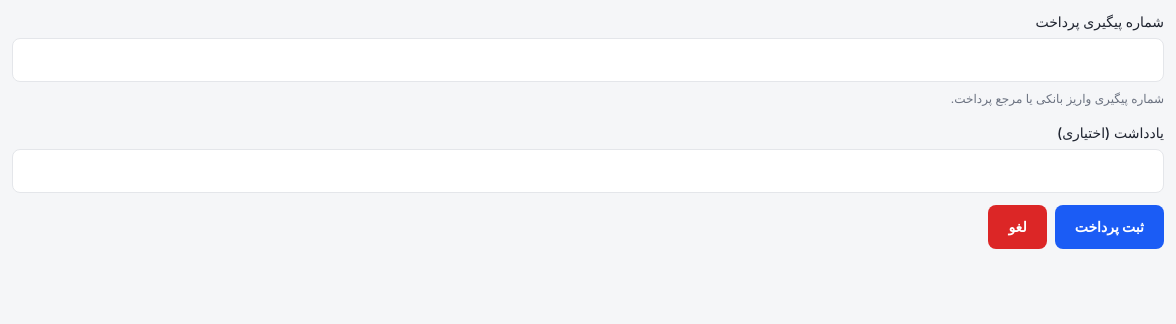
Test case: SettlementActions › marks the batch paid with the bank reference and note
Step 1. Type "TRX-123" into the field labelled "شماره پیگیری پرداخت" → (588, 60), box [12,38,1164,82]
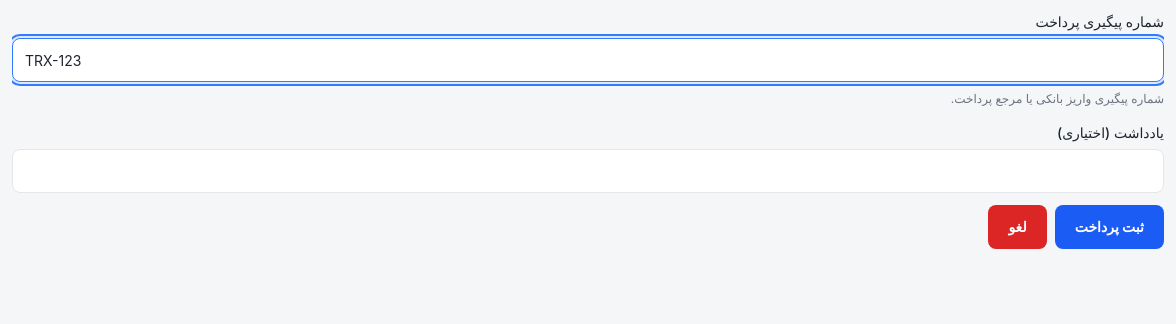
Step 2. Type "واریز شد" into the field labelled "یادداشت (اختیاری)" → (588, 171), box [12,149,1164,193]
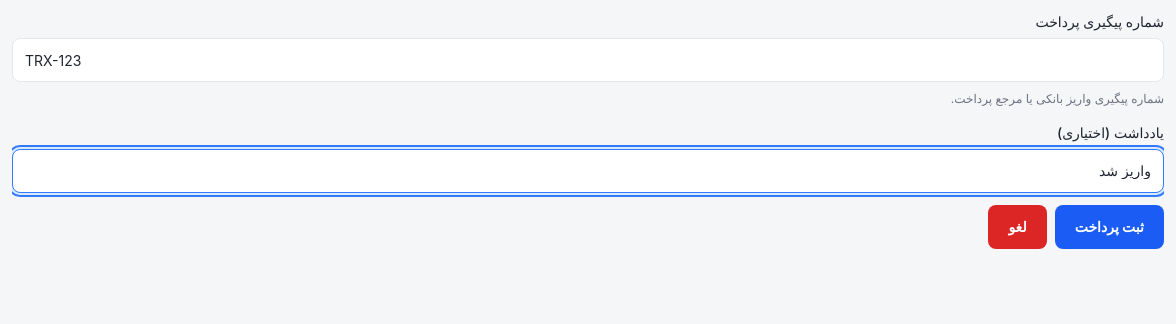
Step 3. Click the button "ثبت پرداخت" → (1109, 227), box [1055,205,1164,249]
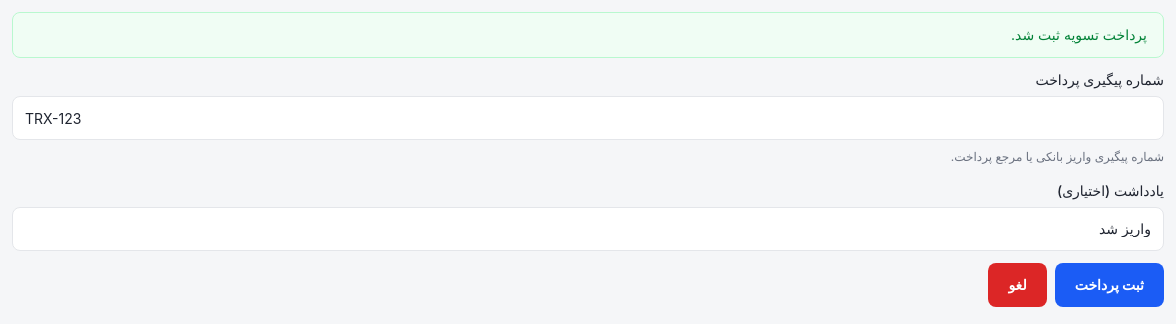
expect the text "پرداخت تسویه ثبت شد." is shown: met, box [12,12,1164,58]
